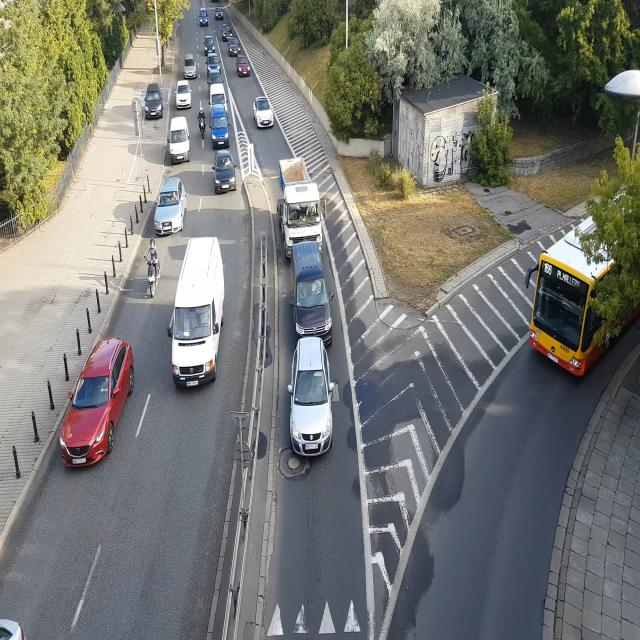bus: (526, 214, 615, 395)
car: (59, 349, 130, 466), (173, 241, 223, 395), (289, 336, 337, 460), (290, 244, 334, 338), (150, 179, 187, 232), (168, 120, 193, 162), (212, 152, 235, 193), (0, 607, 25, 640), (143, 85, 165, 120), (254, 98, 275, 130), (212, 102, 229, 133), (208, 80, 228, 106), (175, 85, 192, 108), (183, 53, 197, 78), (206, 57, 222, 76), (237, 57, 251, 75), (228, 39, 241, 57), (203, 36, 215, 52), (220, 26, 233, 40), (198, 7, 208, 23), (212, 6, 225, 18)
motorcycle: (139, 239, 164, 304), (197, 107, 207, 139)
truck: (277, 163, 323, 249)
